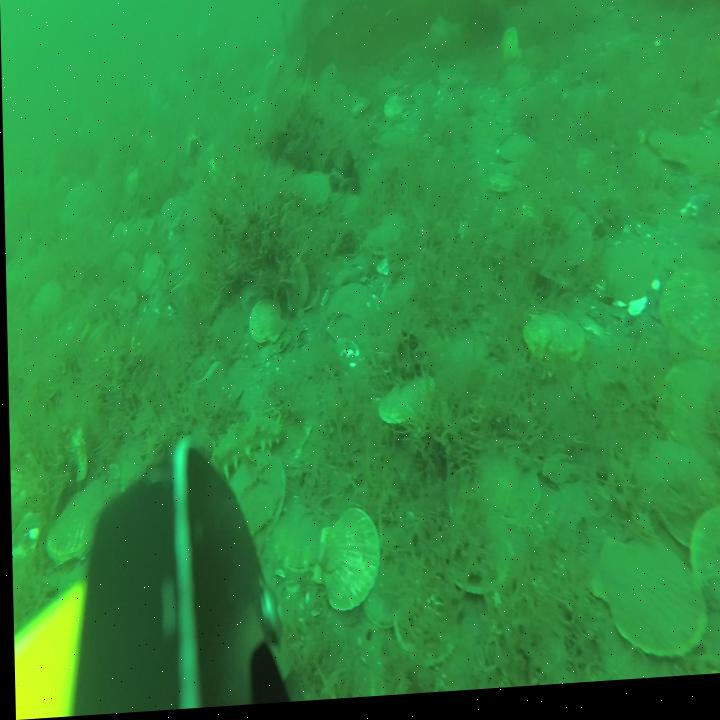holothurian: (206, 412, 284, 480)
scallop: (592, 535, 705, 678), (638, 438, 719, 564), (657, 362, 720, 487), (439, 504, 508, 607), (316, 516, 378, 627), (659, 265, 720, 374), (44, 472, 112, 569), (476, 442, 542, 536), (360, 538, 418, 637), (533, 205, 593, 299), (395, 587, 456, 673), (598, 242, 655, 316), (523, 311, 586, 375), (230, 455, 283, 531), (690, 511, 720, 643), (273, 506, 320, 584), (380, 383, 436, 444), (245, 302, 285, 352), (364, 218, 409, 262), (378, 273, 416, 325), (647, 133, 688, 176), (297, 170, 330, 219), (496, 135, 538, 173), (281, 265, 306, 323), (29, 286, 63, 328), (133, 259, 161, 304), (487, 168, 523, 202), (384, 94, 411, 132), (160, 196, 184, 237), (412, 84, 438, 119), (499, 30, 521, 69)
